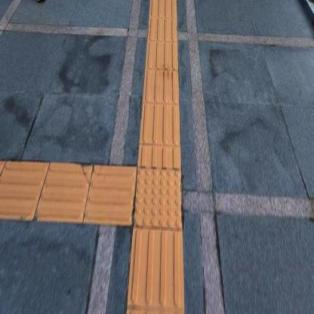Podoctatil: (108, 138, 208, 260), (0, 159, 133, 227), (136, 0, 182, 165), (124, 230, 186, 314)
